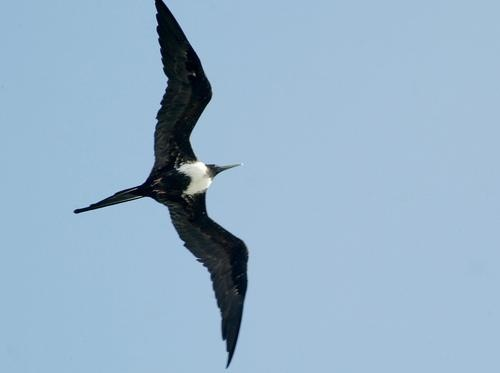bird: (70, 1, 251, 369)
